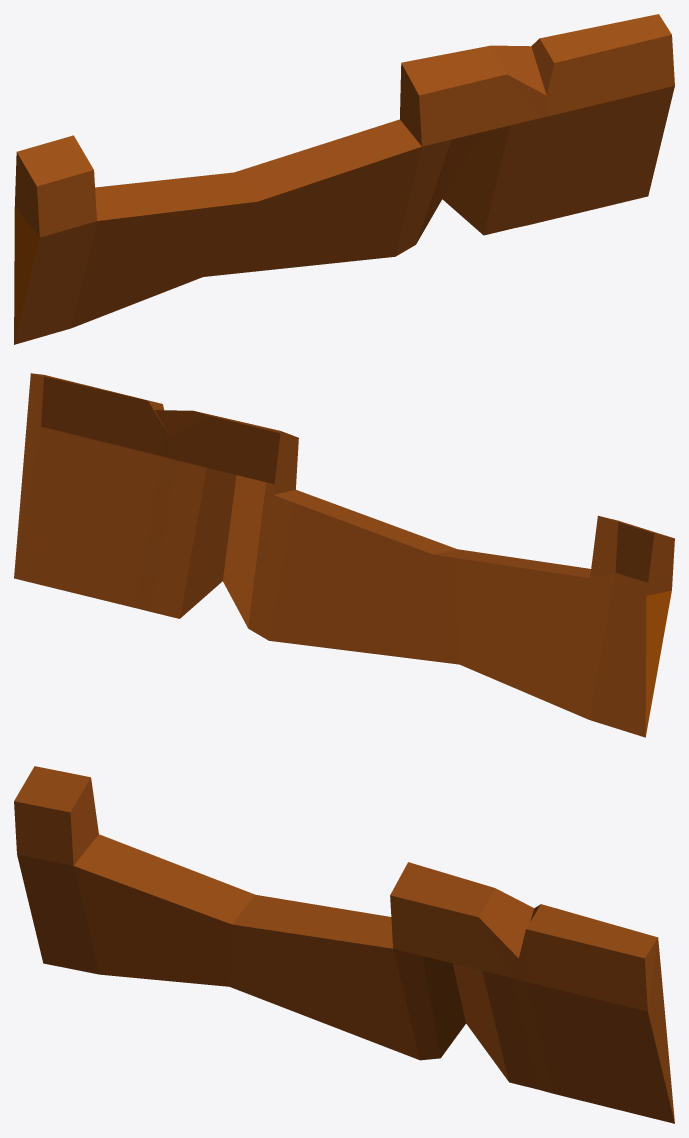
File: ShipPart.fbx
3 views of the same model, one above another, from view 1: azimuth 30°, elevation 25°; view 2: azimuth 150°, elevation 25°; view 3: azimuth 330°, elevation 25° (orthographic).
Visible parts, largest first — view 1: Sphere.021; view 2: Sphere.021; view 3: Sphere.021.
Boxes of the visible parts, x1,y1,x2,y2 form: Sphere.021: (14, 14, 674, 344); Sphere.021: (14, 373, 674, 737); Sphere.021: (14, 766, 674, 1123).
Bounding box in the file's own units: 4360 × 1331 × 388.
